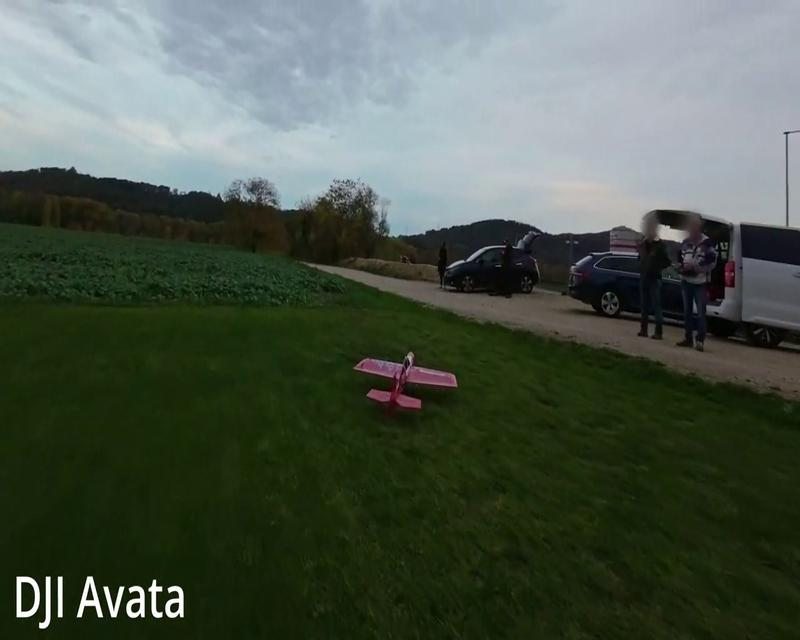UAV: (352, 350, 459, 409)
